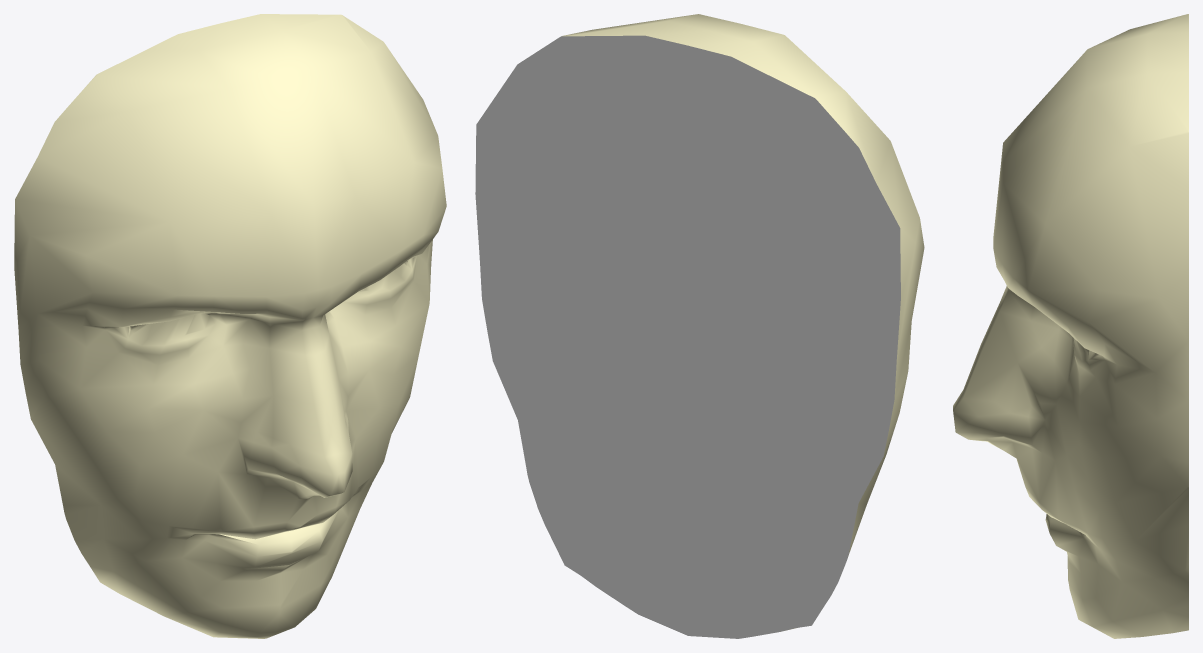
File: yüz.fbx
3 views of the same model, side by side, from view 1: azimuth 30°, elevation 25°; view 2: azimuth 150°, elevation 25°; view 3: azimuth 270°, elevation 25° (orthographic). The views are drawn at different scales.
Visible parts, largest first — view 1: Menschliches_Gesicht1; view 2: Menschliches_Gesicht1; view 3: Menschliches_Gesicht1.
Boxes of the visible parts, x1,y1,x2,y2 form: Menschliches_Gesicht1: (14, 14, 446, 638); Menschliches_Gesicht1: (475, 14, 924, 638); Menschliches_Gesicht1: (953, 14, 1188, 638).
Bounding box in the file's own units: 0.0985 × 0.1339 × 0.0499.
